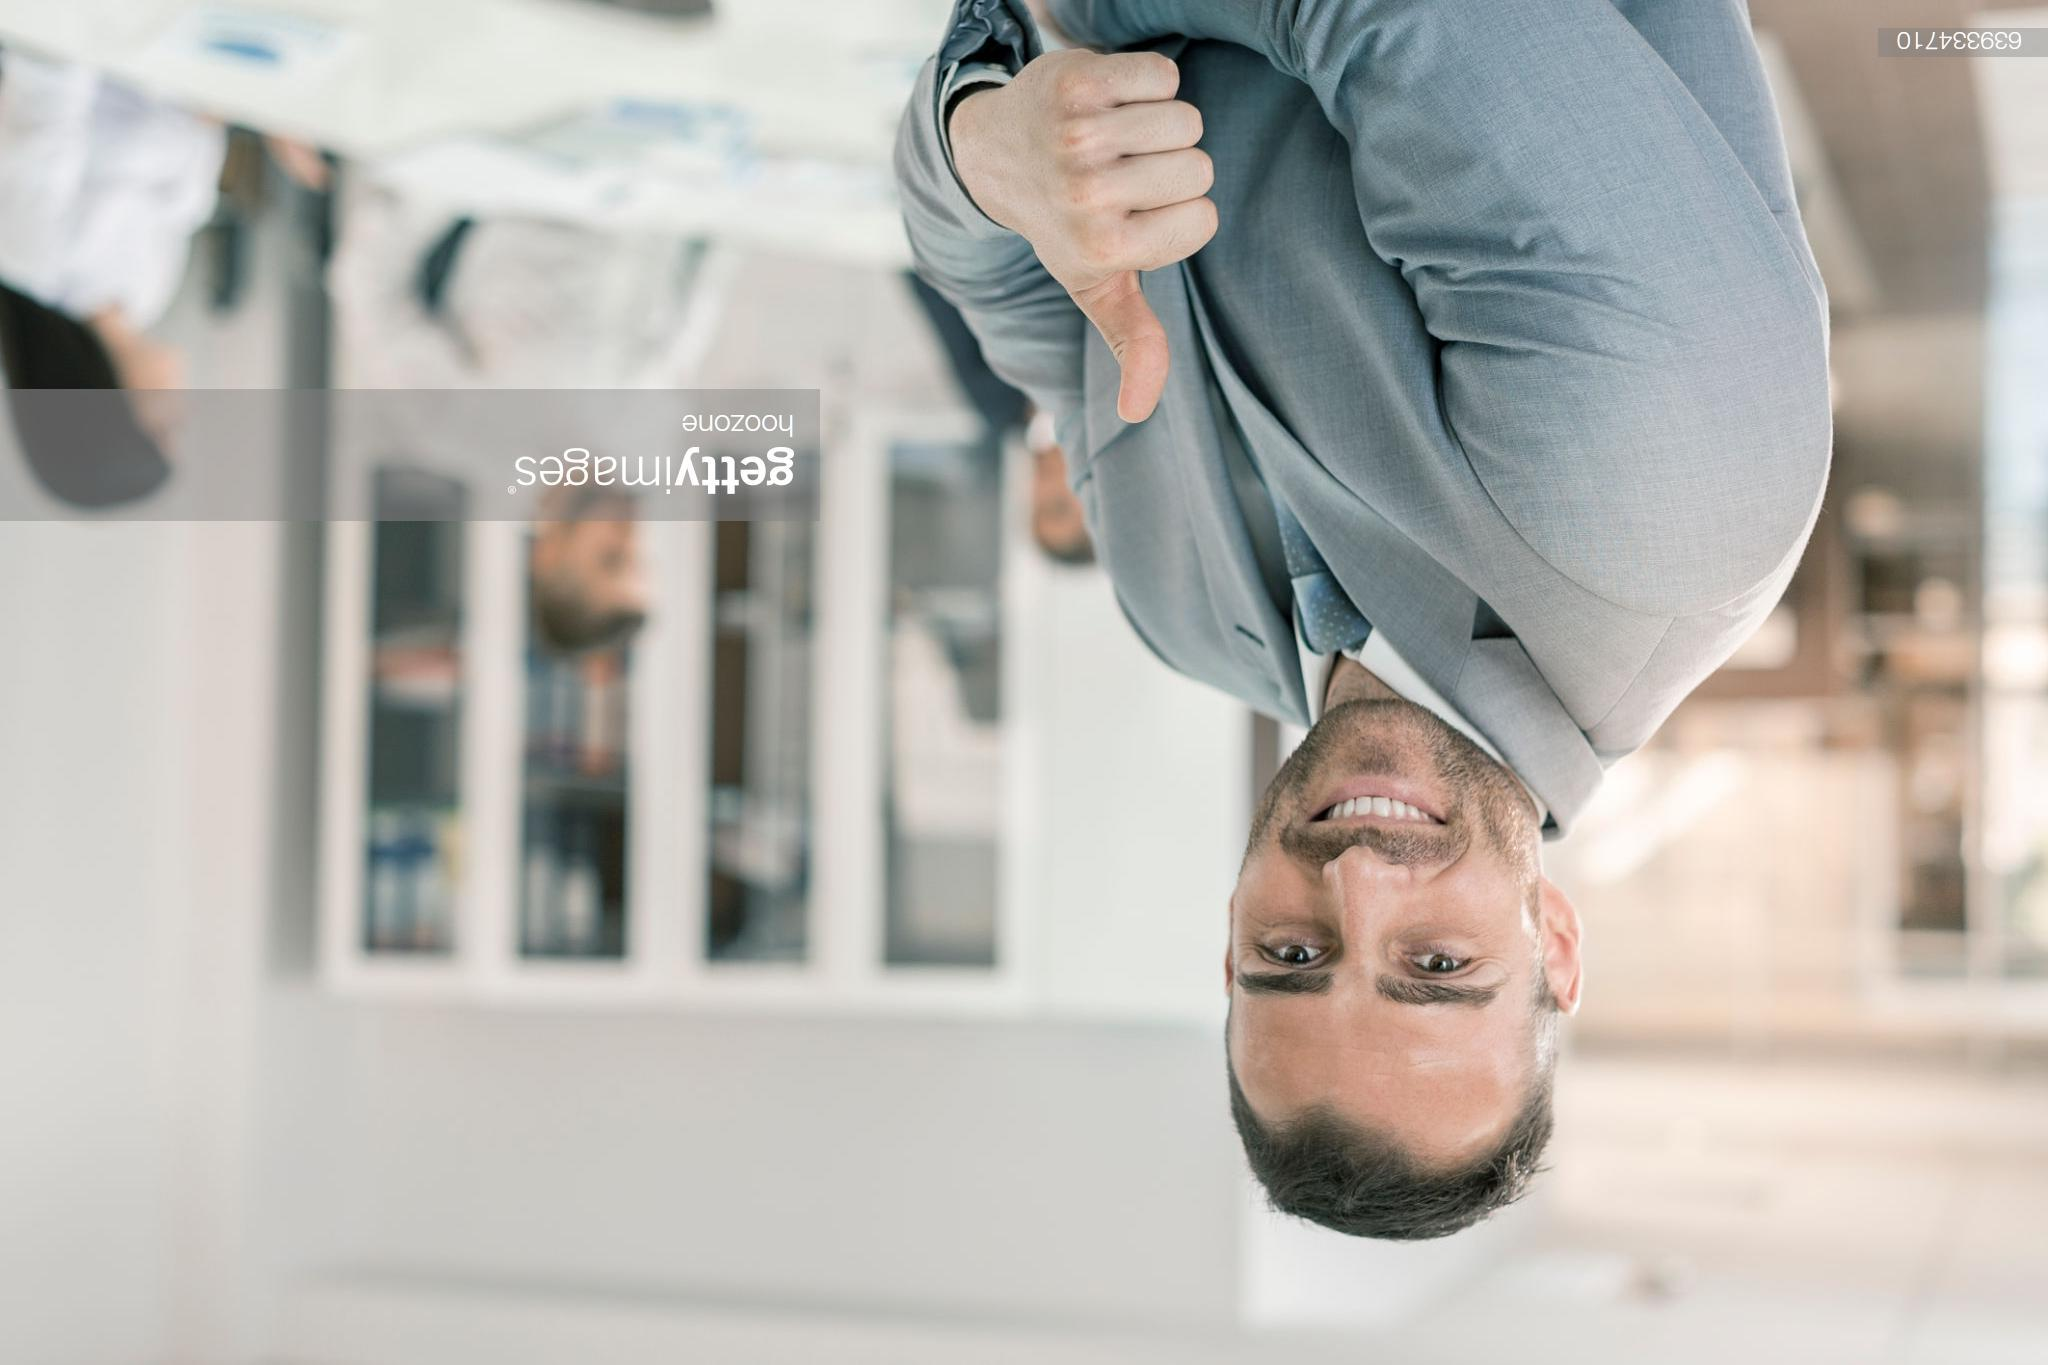thumbsdown: (1026, 52, 1220, 425)
